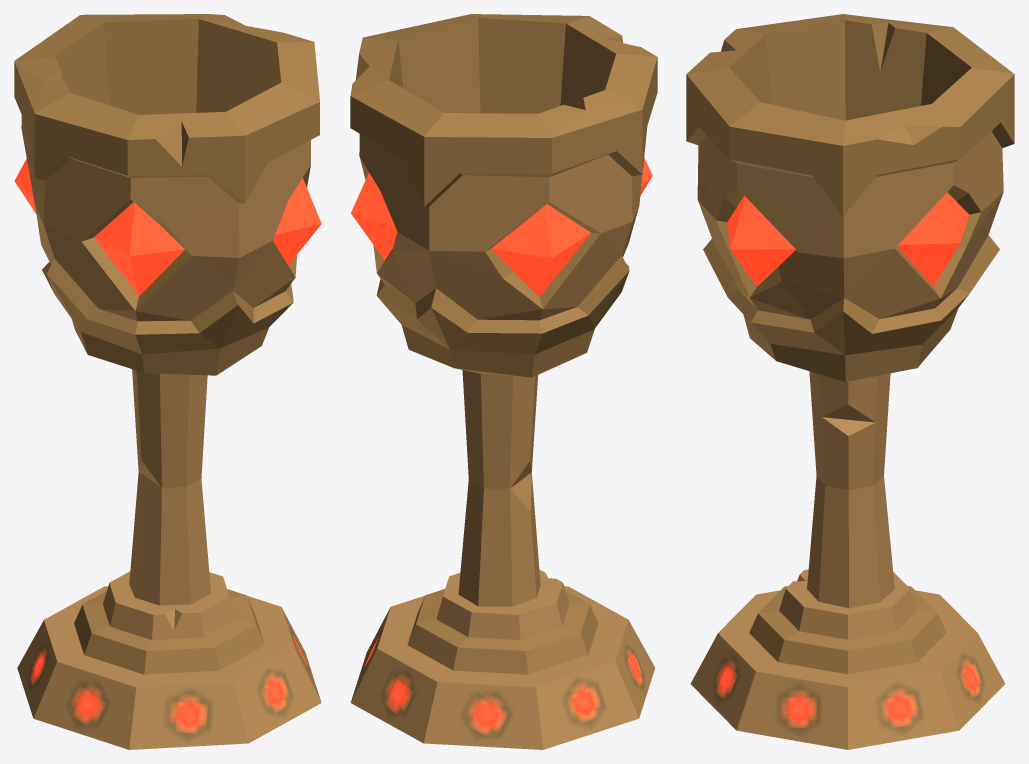
Rendered from crypt_goblet.gltf.
3 views of the same model, side by side, from view 1: azimuth 30°, elevation 25°; view 2: azimuth 150°, elevation 25°; view 3: azimuth 270°, elevation 25° (orthographic).
Parts seen in each view (by area): view 1: crypt_goblet; view 2: crypt_goblet; view 3: crypt_goblet.
Part boxes in pixels (bbox=[...]): crypt_goblet: bbox=[14, 14, 321, 749]; crypt_goblet: bbox=[350, 14, 657, 749]; crypt_goblet: bbox=[686, 14, 1014, 749].
Bounding box in the file's own units: 0.1745 × 0.3688 × 0.1785.
1 material, 1 textured.
